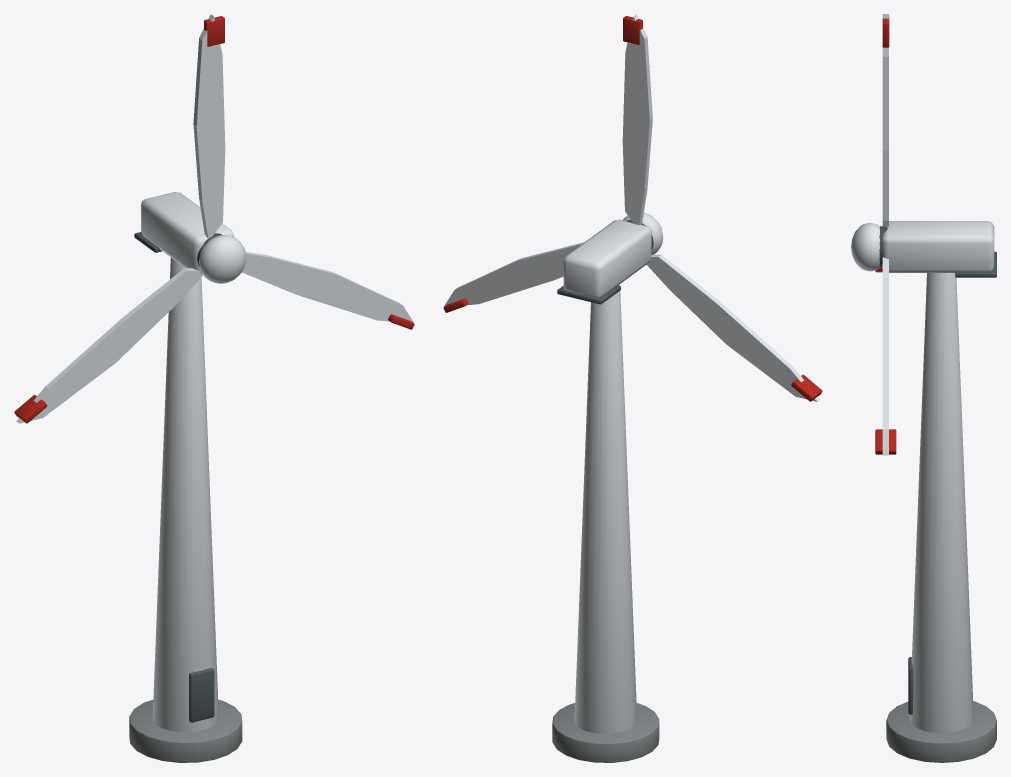
Rendered from CanyonWindTurbine.fbx.
3 renders of one model, left to right at view 1: azimuth 30°, elevation 25°; view 2: azimuth 150°, elevation 25°; view 3: azimuth 270°, elevation 25°, orthographic. The views are drawn at different scales.
Parts seen in each view (by area): view 1: Tapered steel tower, Aerodynamic blade 2, Aerodynamic blade 1, Aerodynamic blade 3, Foundation, Nacelle, Aerodynamic spinner, Tower access hatch; view 2: Tapered steel tower, Aerodynamic blade 2, Aerodynamic blade 1, Nacelle, Foundation, Aerodynamic blade 3; view 3: Tapered steel tower, Nacelle, Foundation, Aerodynamic blade 3, Aerodynamic blade 1, Aerodynamic spinner, Aviation blade tip.002, Nacelle service deck, Tower access hatch.
Part boxes in pixels (x1,y1,x2,y2): Tapered steel tower: (152,257,218,732); Aerodynamic blade 2: (16,268,202,423); Aerodynamic blade 1: (193,14,225,238); Aerodynamic blade 3: (242,252,414,323); Foundation: (129,699,242,762); Nacelle: (141,192,233,273); Aerodynamic spinner: (199,235,246,283); Tower access hatch: (189,668,214,722); Tapered steel tower: (574,284,637,733); Aerodynamic blade 2: (647,254,820,401); Aerodynamic blade 1: (622,14,652,225); Nacelle: (563,219,651,297); Foundation: (552,703,659,762); Aerodynamic blade 3: (444,242,583,306); Tapered steel tower: (909,273,973,732); Nacelle: (882,221,994,272); Foundation: (886,701,996,762); Aerodynamic blade 3: (882,257,888,455); Aerodynamic blade 1: (882,14,888,226); Aerodynamic spinner: (851,222,879,271); Aviation blade tip.002: (875,429,896,454); Nacelle service deck: (955,251,996,277); Tower access hatch: (908,657,913,714).
Bounding box in the file's own units: 9.79 × 17.65 × 3.22.
